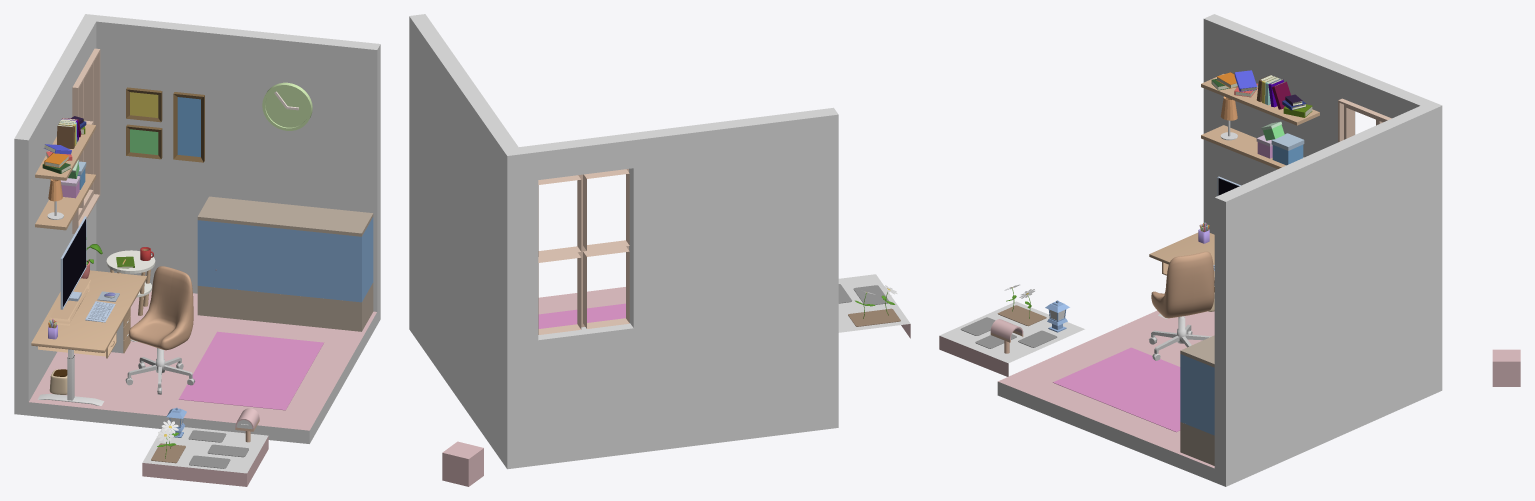
Rendered from roomv5.glb.
3 views of the same model, side by side, from view 1: azimuth 30°, elevation 25°; view 2: azimuth 150°, elevation 25°; view 3: azimuth 270°, elevation 25° (orthographic). The views are drawn at different scales.
Parts seen in each view (by area): view 1: Body, Aquarium, Shelves, Floor Items, Desks, Chair, Mini Floor, Table Stuff, Clock, Computer, Mailbox, Dirt (+2 smaller); view 2: Body, Mini Floor, Cube, Floor Items, Dirt; view 3: Body, Shelves, Floor Items, Aquarium, Chair, Mini Floor, Desks, Cube.
Part boxes in pixels (x1,y1,x2,y2): Body: (14,14,380,443); Aquarium: (197,196,373,331); Shelves: (35,87,204,230); Floor Items: (49,308,323,410); Desks: (31,250,155,405); Chair: (125,266,194,394); Mini Floor: (142,425,268,486); Table Stuff: (48,237,153,339); Clock: (262,82,312,130); Computer: (60,216,86,309); Mailbox: (235,408,259,442); Dirt: (151,443,185,463); Body: (409,14,838,469); Mini Floor: (838,274,910,338); Cube: (442,441,483,486); Floor Items: (538,303,625,328); Dirt: (848,308,900,326); Body: (997,14,1442,486); Shelves: (1201,70,1319,168); Floor Items: (1053,286,1214,432); Aquarium: (1180,335,1214,465); Chair: (1149,251,1214,360); Mini Floor: (939,301,1084,376); Desks: (1149,232,1214,318); Cube: (1492,349,1520,386).
Bounding box in the file's own units: 31.87 × 22.54 × 41.66.
